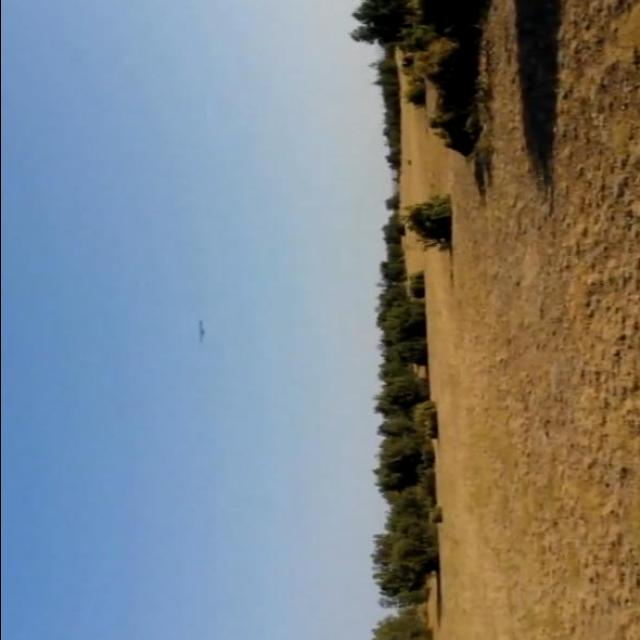plane: (194, 321, 204, 344)
